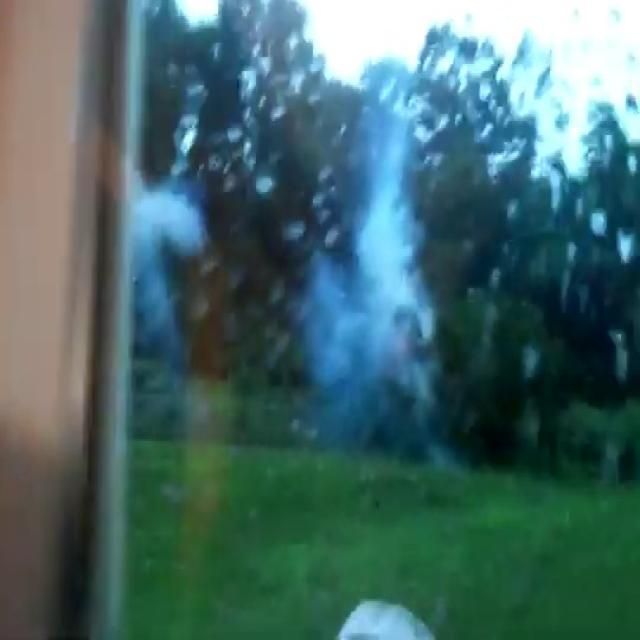Smoke: (304, 59, 442, 438)
